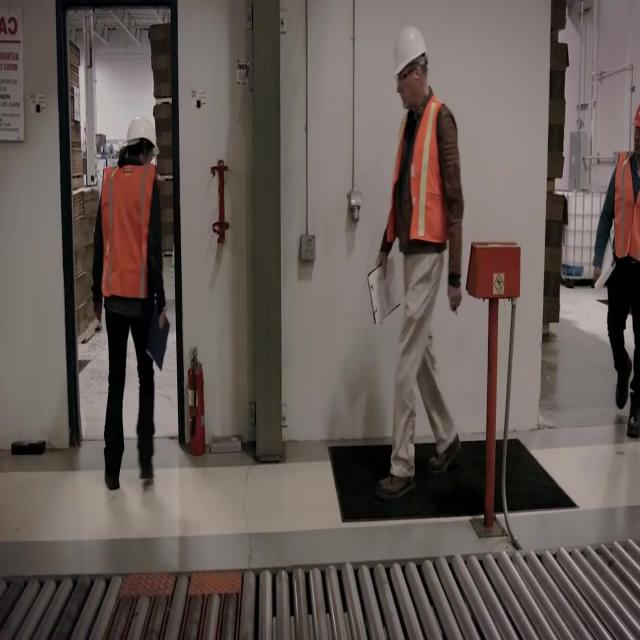Reflective-Jacket: (382, 96, 469, 261), (92, 163, 168, 317), (598, 146, 640, 296)
Safety-Helmet: (386, 17, 436, 85), (115, 105, 163, 161), (624, 82, 640, 138)
